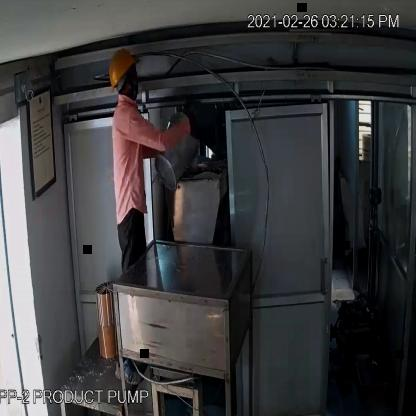helmet: (106, 46, 142, 96)
